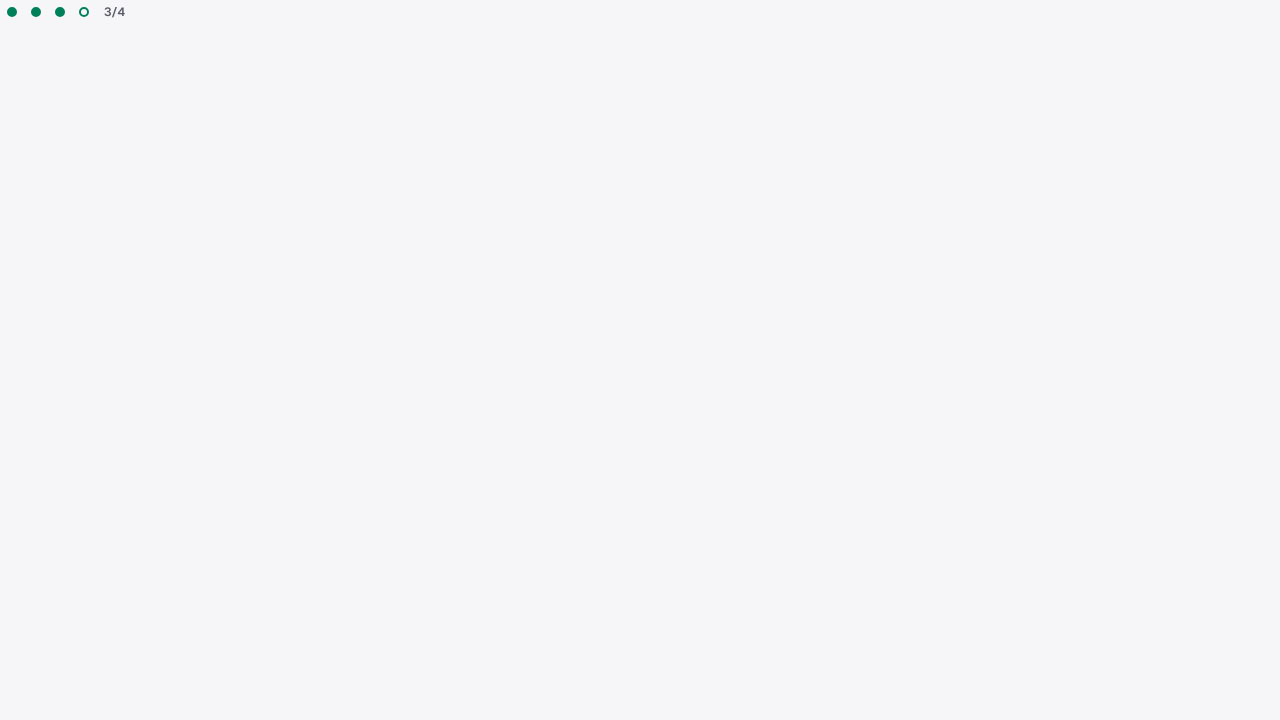
components/character-sheet/spell-slots › asks before spending one, with Cancel focused, outside the dots, and spends nothing on Cancel
Click the 1st button named "Spend a 1st-level spell slot, 3 of 4 left" at (12, 12), box [0,0,24,24]
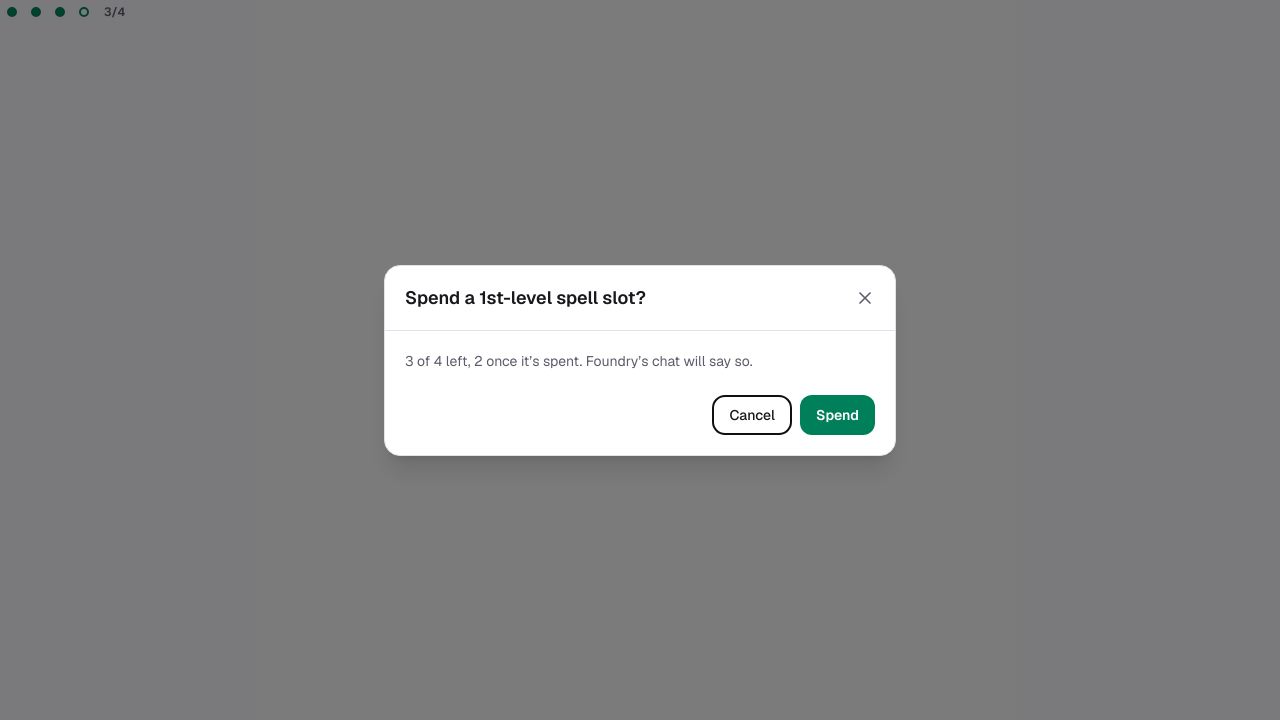
Now the dialog "Spend a 1st-level spell slot?" shows "3 of 4 left, 2 once it’s spent. Foundry’s chat will say so.", box [384,264,896,456]
Now the button "Spend" is shown, box [800,394,875,434]
Click the button "Cancel" at (752, 414), box [712,394,792,434]
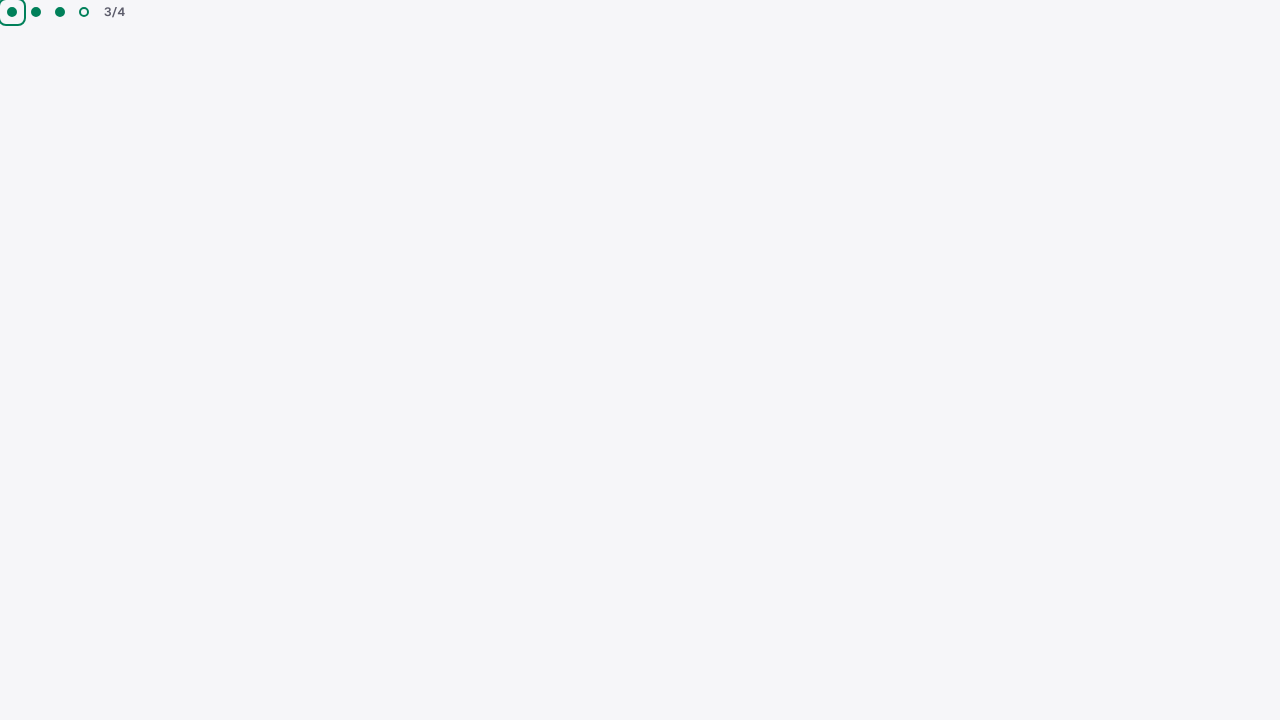
Now the dialog is gone
